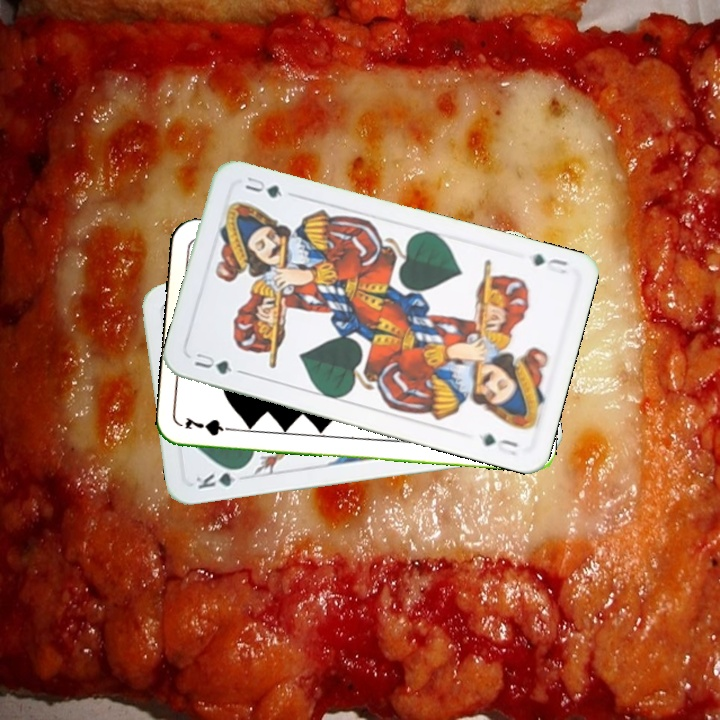G7: (181, 414, 240, 438)
GK: (192, 464, 248, 492)
GU: (190, 348, 235, 377), (528, 250, 570, 277)
